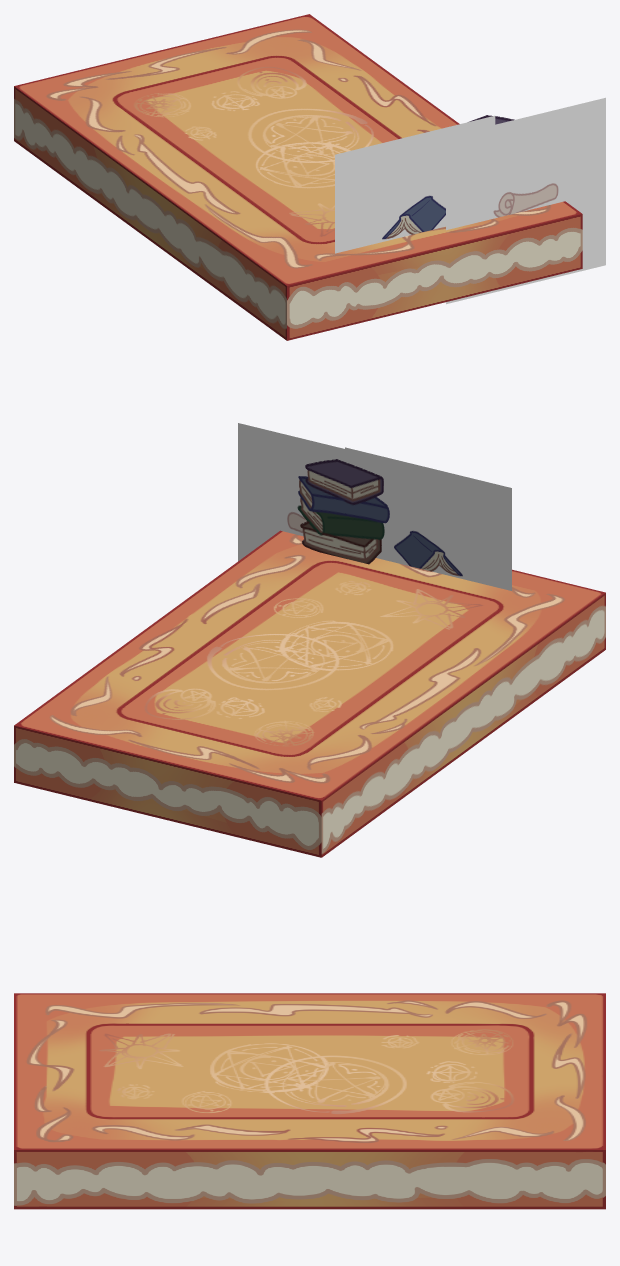
Rendered from test table 05-2.fbx.
3 views of the same model, one above another, from view 1: azimuth 30°, elevation 25°; view 2: azimuth 150°, elevation 25°; view 3: azimuth 270°, elevation 25° (orthographic). The views are drawn at different scales.
Parts seen in each view (by area): view 1: pCube1, pPlane32, pPlane52; view 2: pCube1, pPlane52, pPlane32, pPlane51; view 3: pCube1.
Boxes of the visible parts, left/top/right/bottom form: pCube1: left=14, top=14, right=582, bottom=340; pPlane32: left=446, top=97, right=605, bottom=304; pPlane52: left=335, top=115, right=495, bottom=253; pCube1: left=14, top=530, right=605, bottom=857; pPlane52: left=345, top=447, right=511, bottom=590; pPlane32: left=238, top=423, right=344, bottom=561; pPlane51: left=297, top=459, right=389, bottom=564; pCube1: left=14, top=993, right=605, bottom=1209.
Size of the model in its own units: 6.4 by 4.18 by 9.01.
4 materials, 4 textured.
